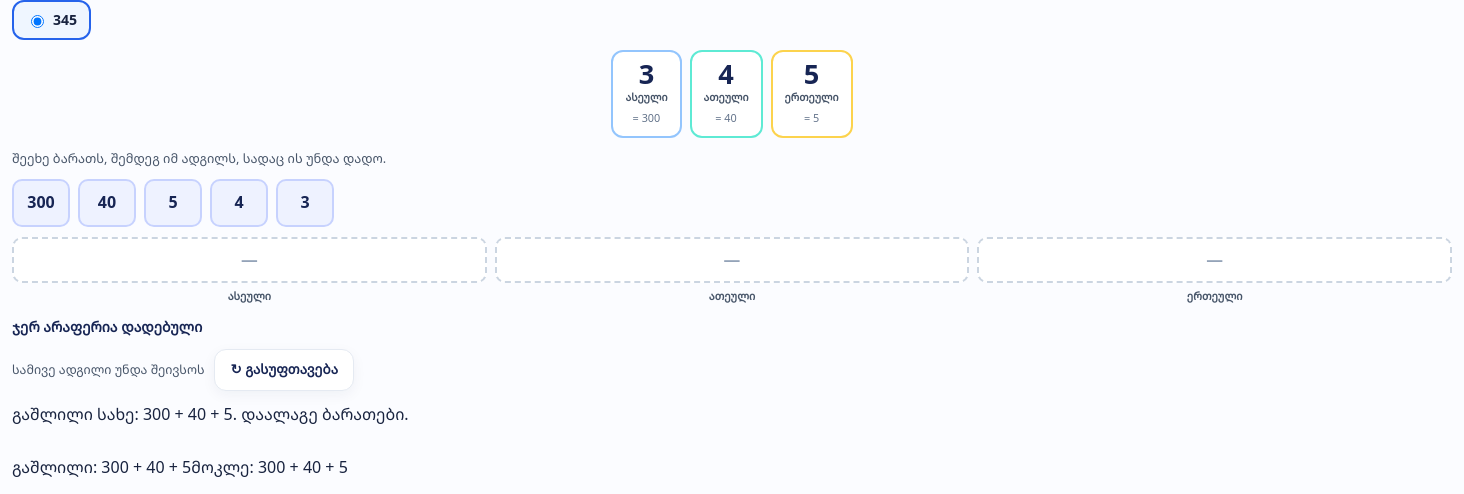
Test: tools: the expanded-form lab adds the cards up › accepts the right cards and says so
Click the button named "ბარათი 300": [41, 203] box [12,179,70,226]
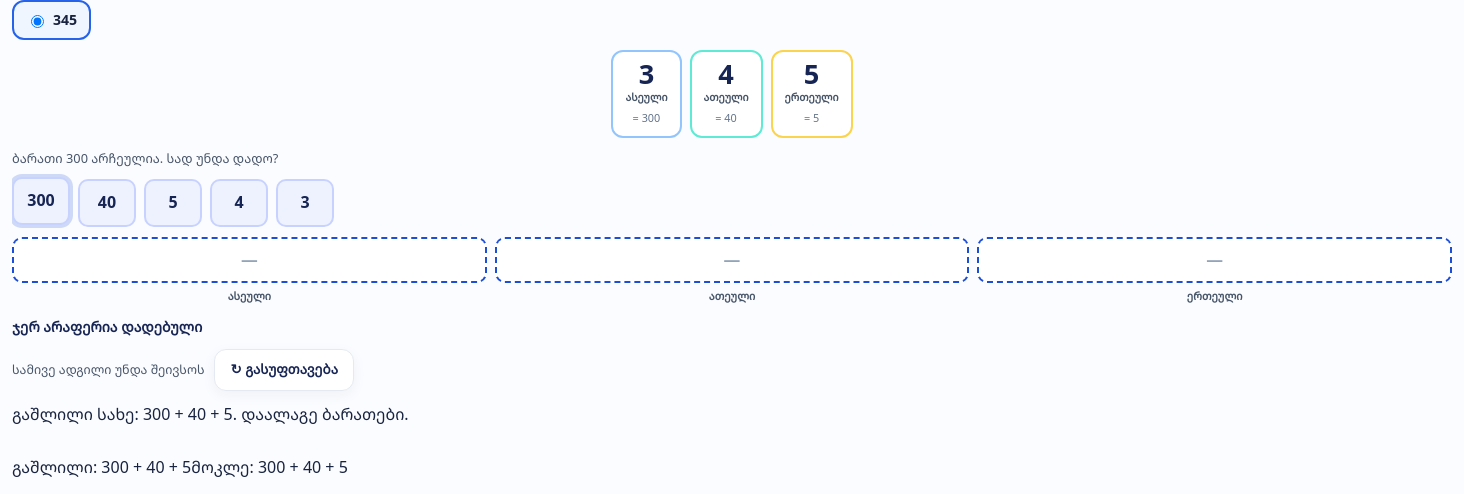
Click the button named "ის ადგილი:": [249, 260] box [12,236,487,282]
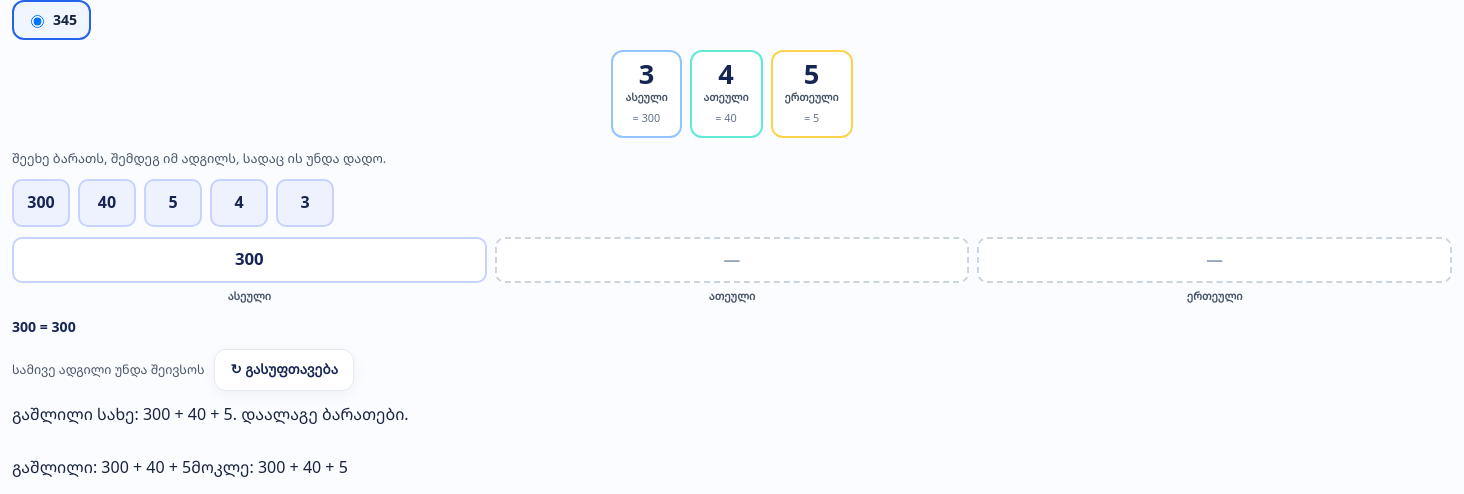
Click the button named "ბარათი 40": [107, 203] box [78,179,136,226]
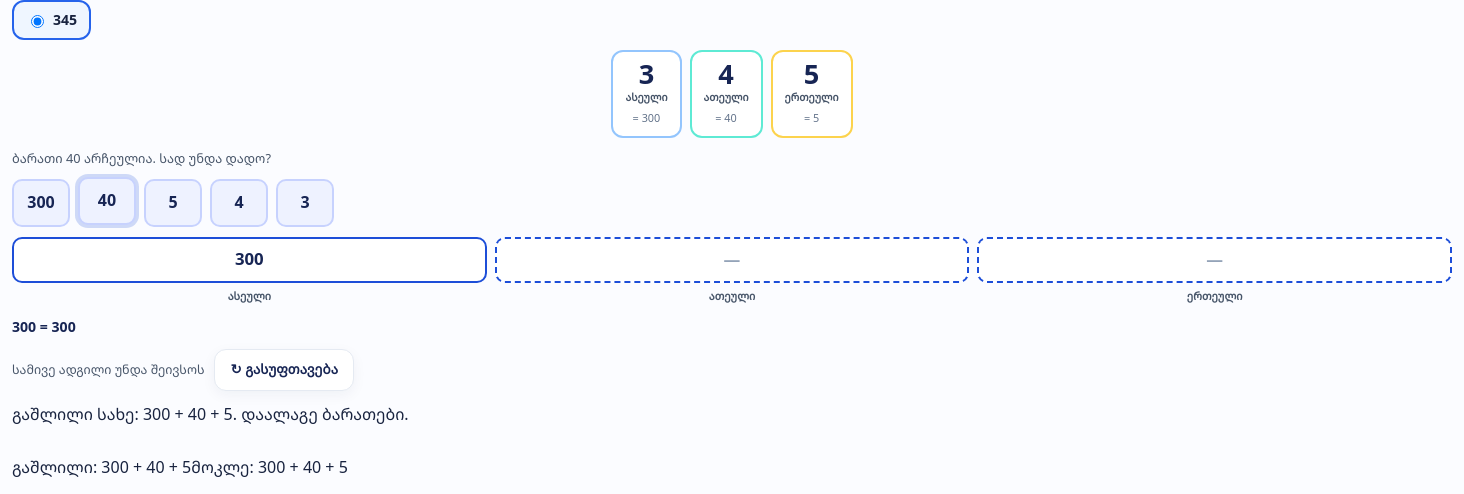
Click the button named "ის ადგილი:": [732, 260] box [495,236,969,282]
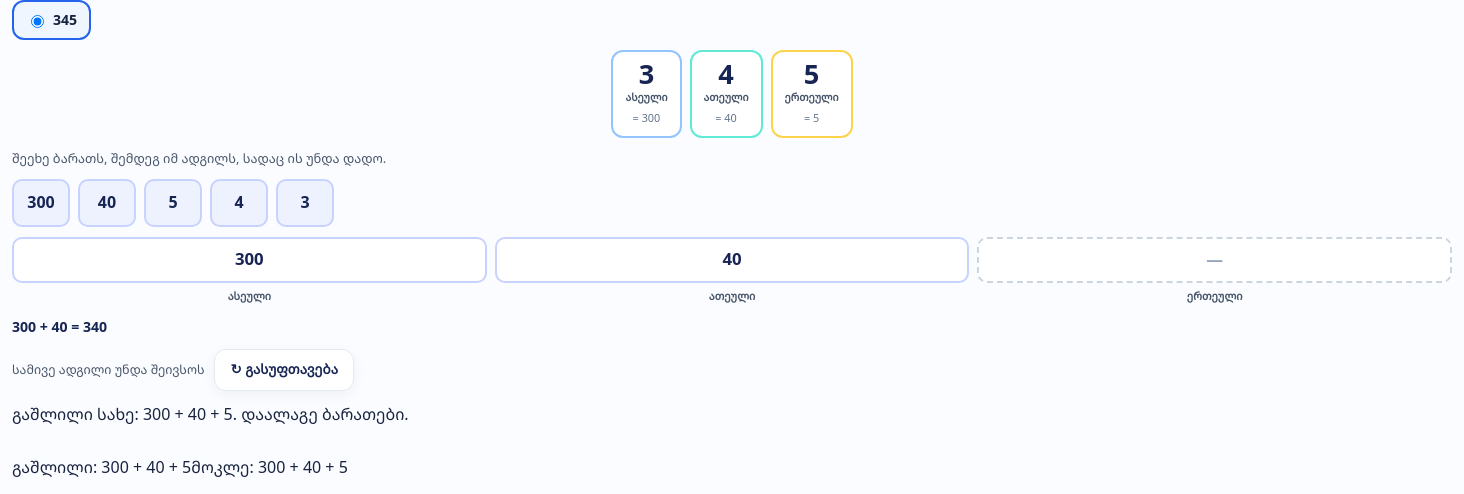
Click the button named "ბარათი 5": [173, 203] box [144,179,202,226]
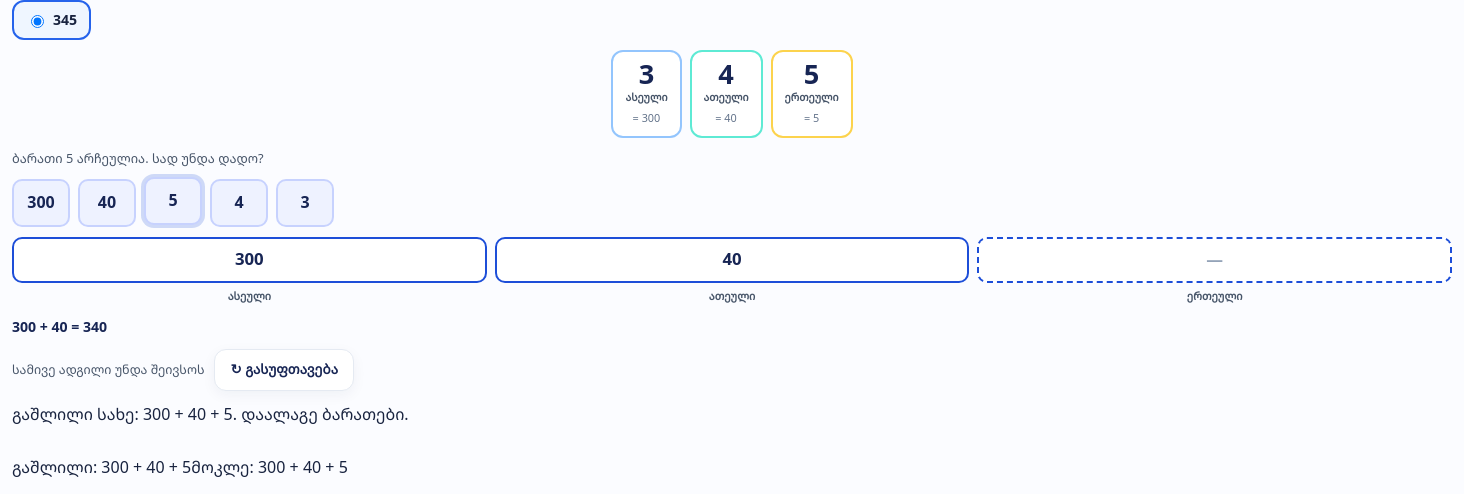
Click the button named "ის ადგილი:": [1215, 260] box [977,236,1452,282]
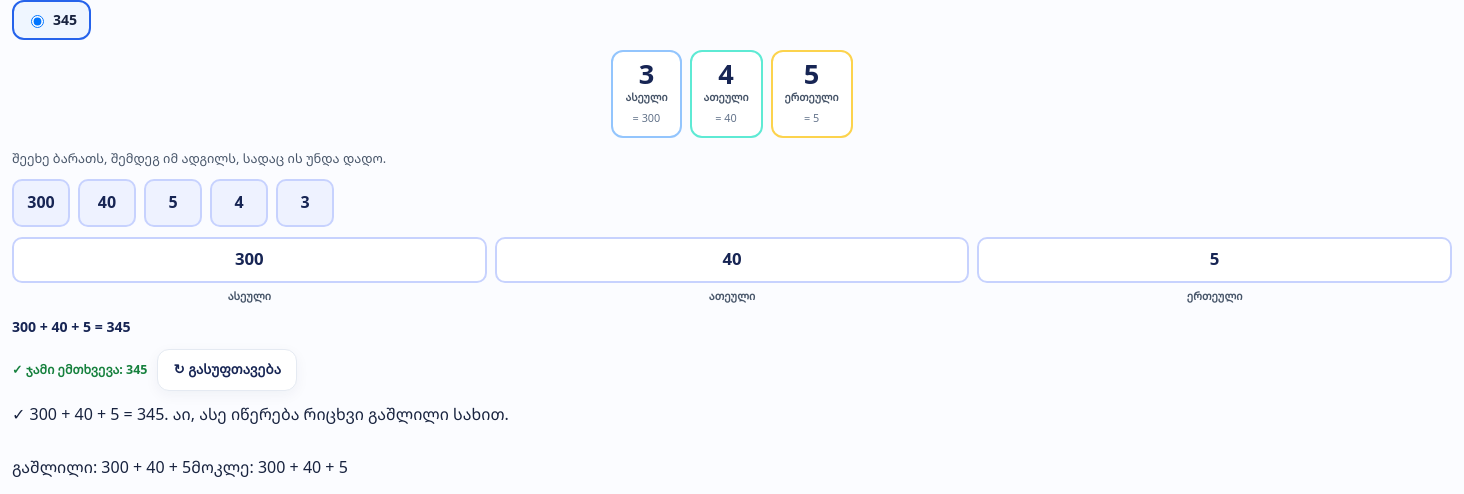
expect the message with class "lab-status" shows "300 + 40 + 5 = 345": met, box [12,403,509,425]
